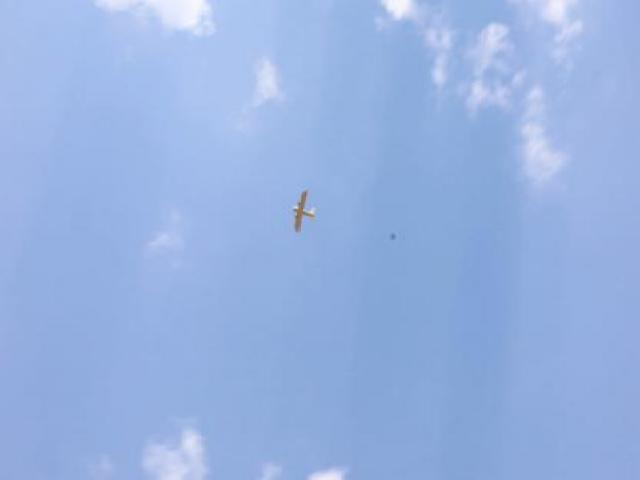uav: (289, 188, 317, 232)
